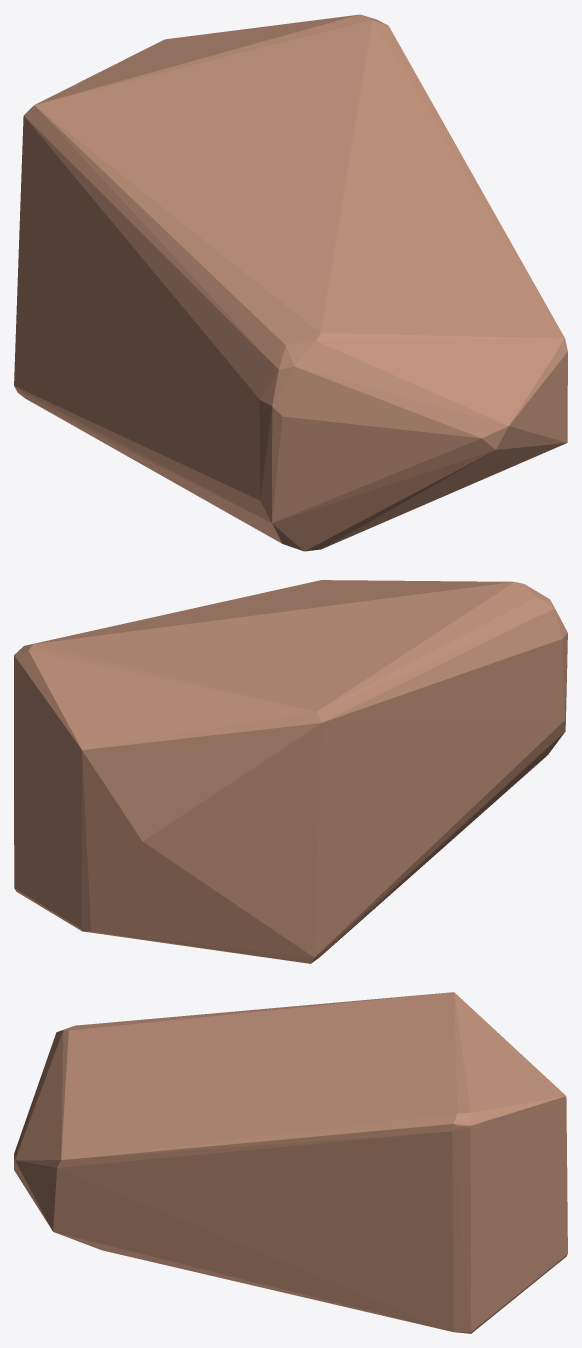
The model's file is lung_ventilation_artificial_a01.glb.
3 renders of one model, top to bottom at view 1: azimuth 30°, elevation 25°; view 2: azimuth 150°, elevation 25°; view 3: azimuth 270°, elevation 25°, orthographic. The views are drawn at different scales.
Parts seen in each view (by area): view 1: geometry_0; view 2: geometry_0; view 3: geometry_0.
Part boxes in pixels (left/top/right/bottom): geometry_0: left=14, top=14, right=567, bottom=551; geometry_0: left=14, top=580, right=567, bottom=963; geometry_0: left=14, top=992, right=567, bottom=1333.
Size of the model in its own units: 0.2875 by 0.2068 by 0.4797.
